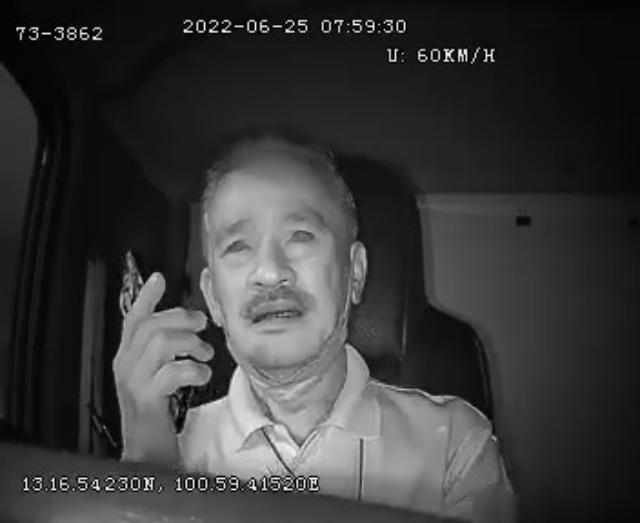PhoneUse: (112, 246, 198, 440)
SafeDriving: (216, 222, 260, 267), (282, 216, 322, 253)
